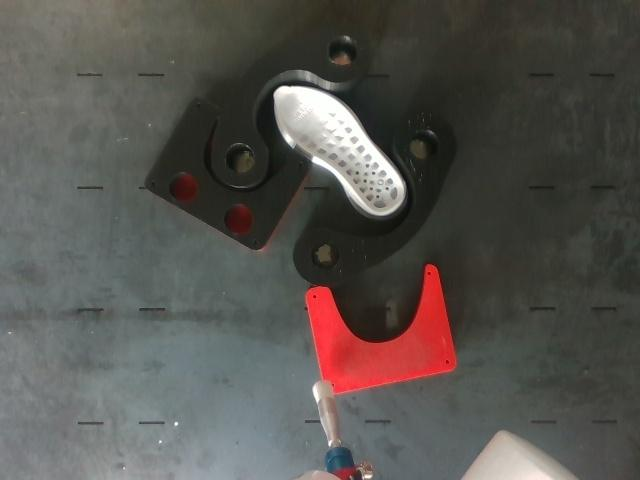shoes: (275, 87, 404, 211)
